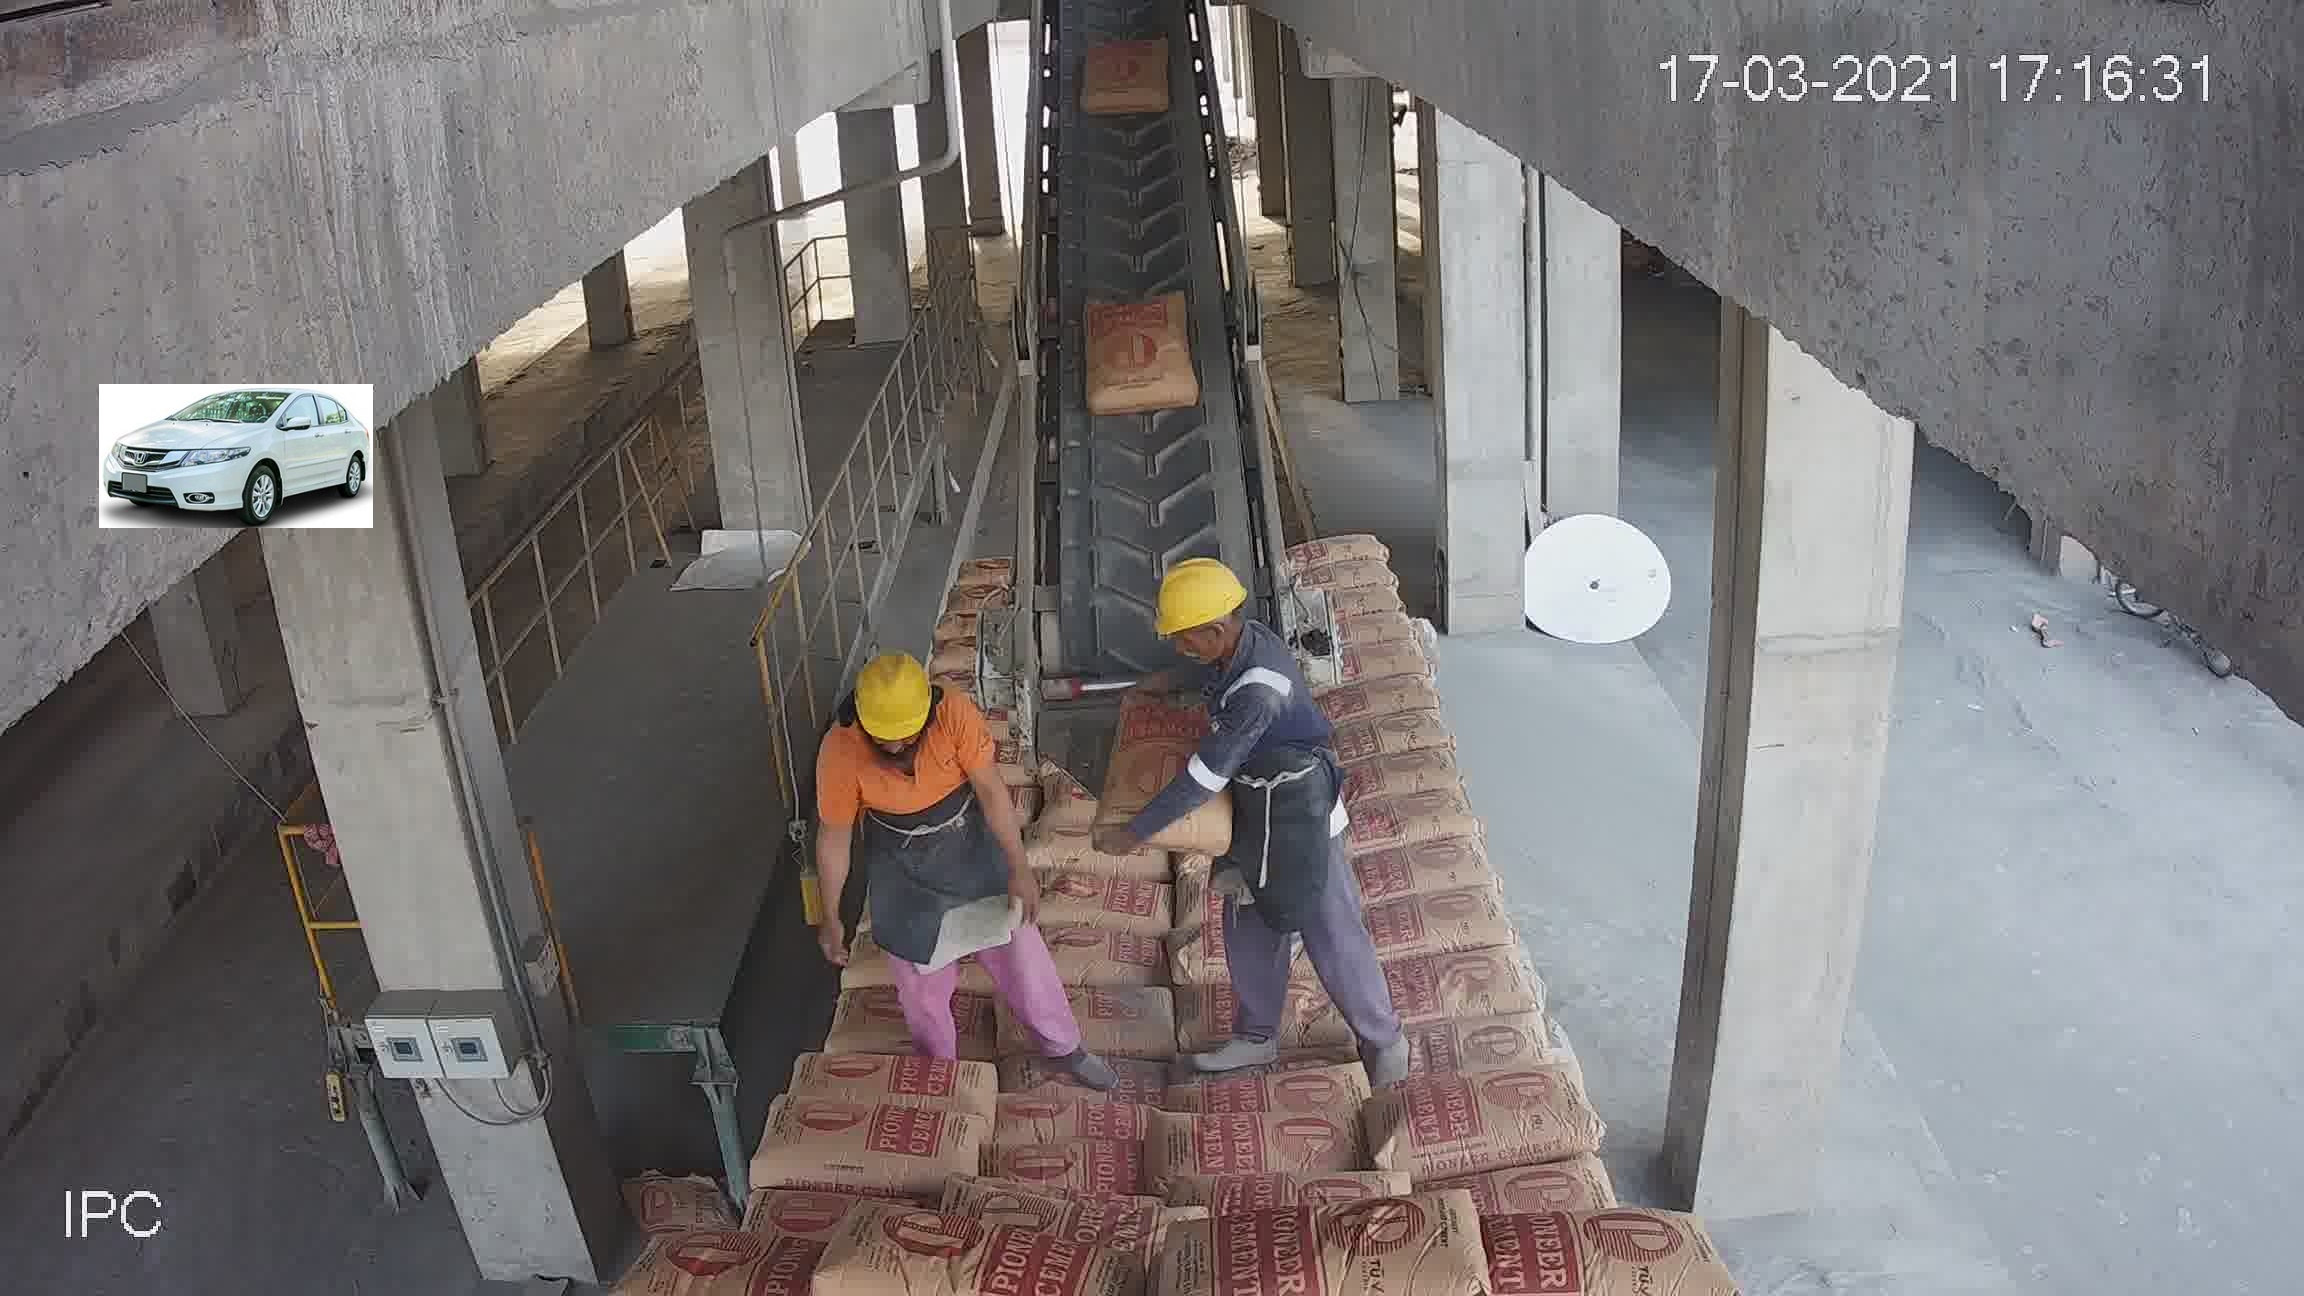bag: (1086, 293, 1204, 408), (1081, 33, 1166, 120)
bag_h: (1198, 1182, 1522, 1294), (1351, 1065, 1608, 1192), (791, 1215, 1131, 1296), (1434, 1203, 1701, 1294), (753, 1097, 999, 1193), (1155, 1100, 1370, 1190), (999, 973, 1180, 1067), (636, 1225, 855, 1294), (1182, 1029, 1367, 1109), (1378, 946, 1533, 1036), (1342, 828, 1503, 907), (788, 1048, 1002, 1101), (1022, 859, 1171, 935), (1366, 896, 1527, 964), (1408, 1006, 1563, 1076), (1334, 786, 1475, 859), (987, 1097, 1150, 1154), (1029, 930, 1177, 992), (1337, 742, 1465, 810), (1329, 699, 1461, 760), (991, 1138, 1146, 1188), (1305, 665, 1438, 718), (1283, 533, 1397, 571), (1299, 557, 1400, 597)
bag_v: (1093, 684, 1233, 856)
belt: (1003, 51, 1287, 767)
